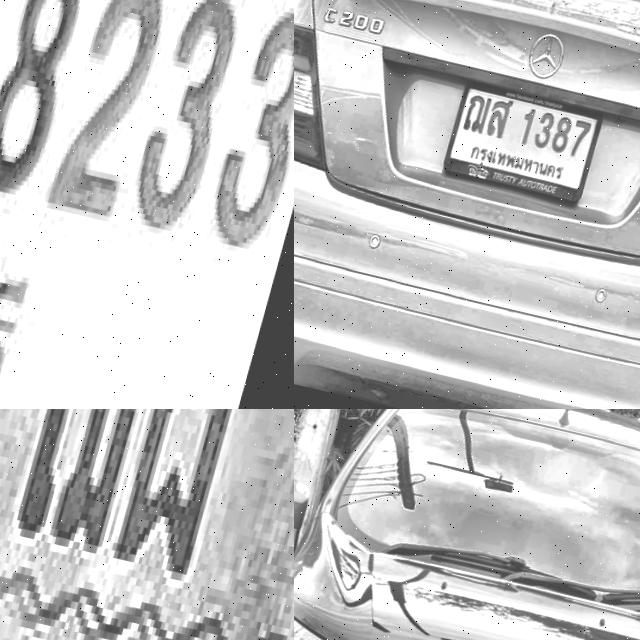license-plate: (0, 0, 294, 409), (0, 409, 294, 640), (440, 76, 610, 206)
